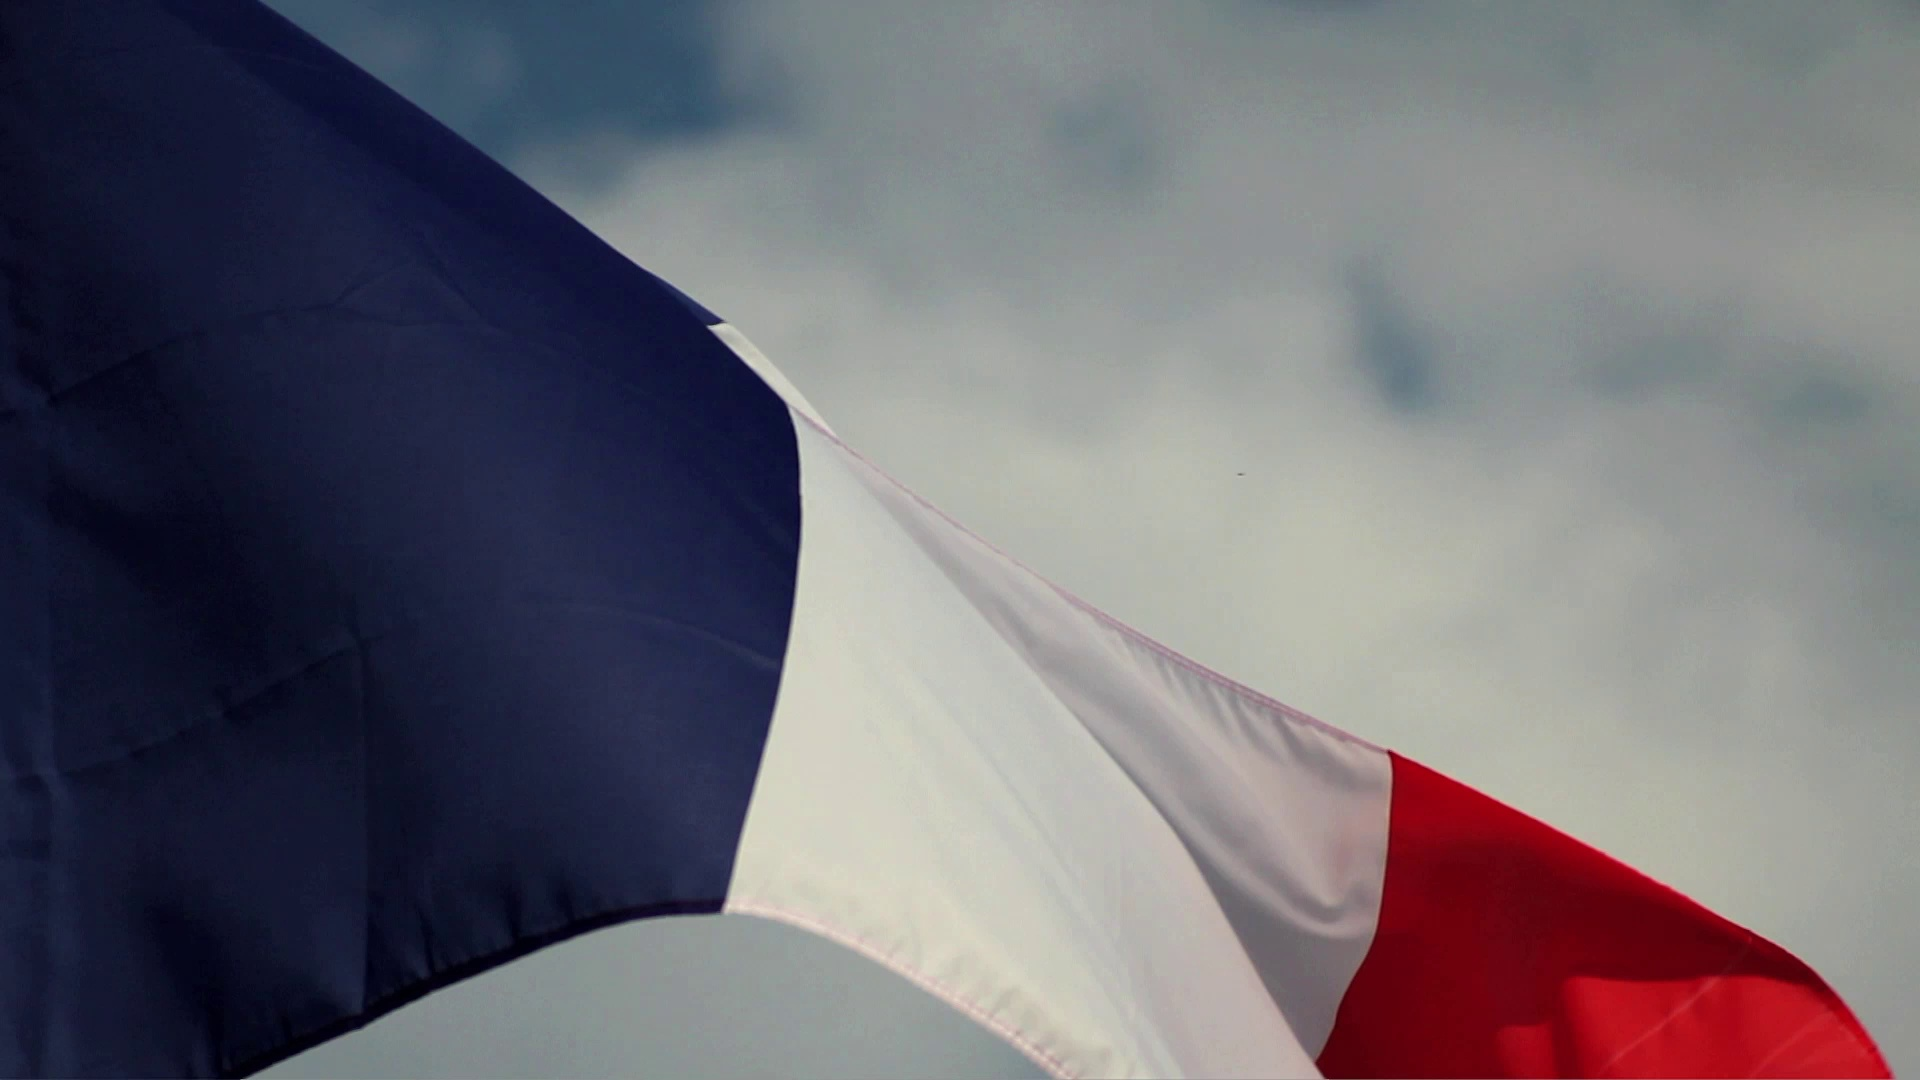French Flag: (1, 1, 1898, 1079)
